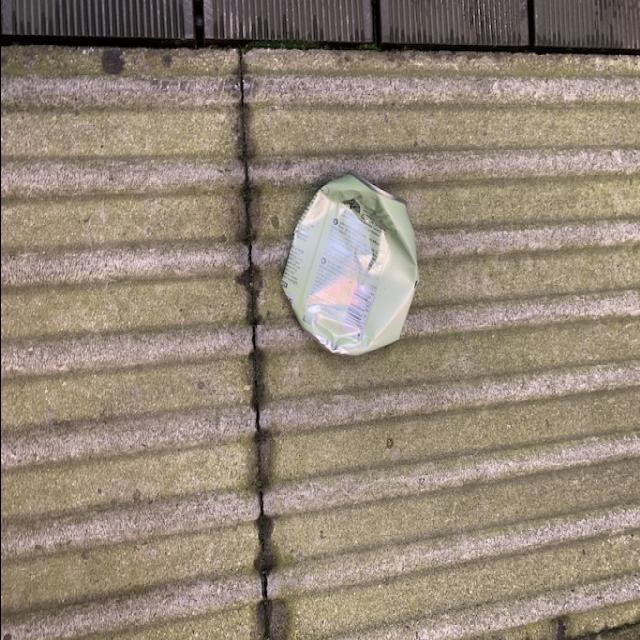litter: (279, 178, 419, 362)
